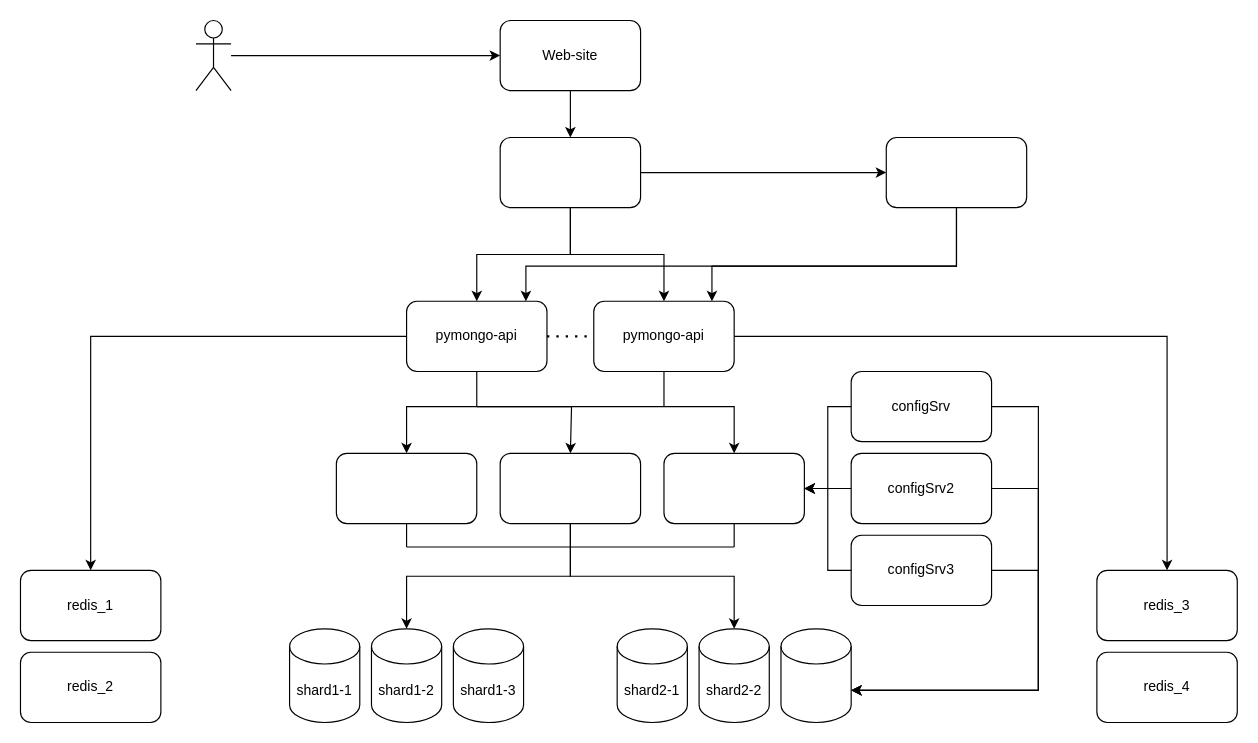
Some shapes in this 1258 by 743 pixel diagram are drawn without their labels. The centre of each missing label's shape, as x and y in pixels:
"API Gateway" goes at pixel 570 172.
"Consul" goes at pixel 956 172.
"mongos_router" goes at pixel 406 488.
"mongos_router2" goes at pixel 570 488.
"mongos_router3" goes at pixel 733 488.
"shard2-3" goes at pixel 815 675.
"User" goes at pixel 213 55.
